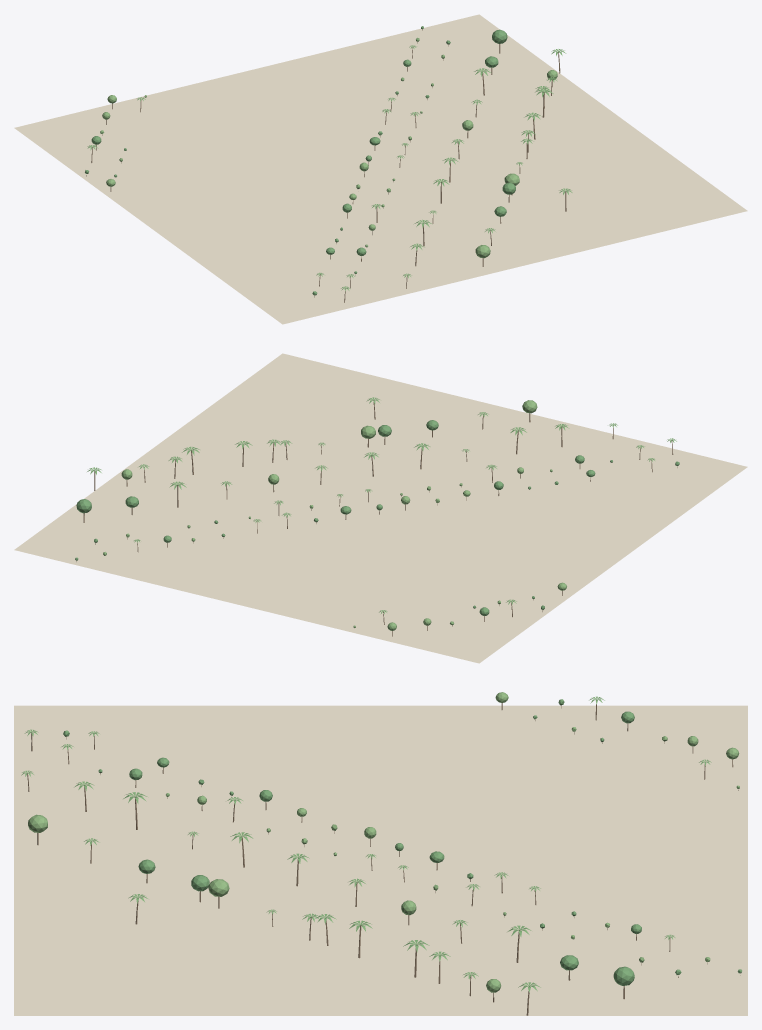
File: nature_-6_1.glb
3 views of the same model, one above another, from view 1: azimuth 30°, elevation 25°; view 2: azimuth 150°, elevation 25°; view 3: azimuth 270°, elevation 25° (orthographic). The views are drawn at different scales.
Parts seen in each view (by area): view 1: ground, palm_leaf, foliage_a, foliage_b, trunk; view 2: ground, palm_leaf, foliage_a, foliage_b, trunk; view 3: ground, palm_leaf, foliage_a, foliage_b, trunk.
Part boxes in pixels (x1=…): ground: x1=14, y1=14, x2=747, y2=324; palm_leaf: x1=87, y1=45, x2=572, y2=291; foliage_a: x1=85, y1=26, x2=515, y2=295; foliage_b: x1=100, y1=37, x2=557, y2=258; trunk: x1=86, y1=29, x2=566, y2=302; ground: x1=14, y1=353, x2=747, y2=663; palm_leaf: x1=87, y1=397, x2=676, y2=614; foliage_a: x1=75, y1=420, x2=679, y2=615; foliage_b: x1=103, y1=400, x2=566, y2=630; trunk: x1=76, y1=402, x2=677, y2=636; ground: x1=14, y1=705, x2=747, y2=1015; palm_leaf: x1=21, y1=696, x2=711, y2=992; foliage_a: x1=63, y1=699, x2=741, y2=985; foliage_b: x1=28, y1=692, x2=739, y2=992; trunk: x1=27, y1=703, x2=740, y2=1015.
Bounding box in the file's own units: 254 × 13.35 × 250.
